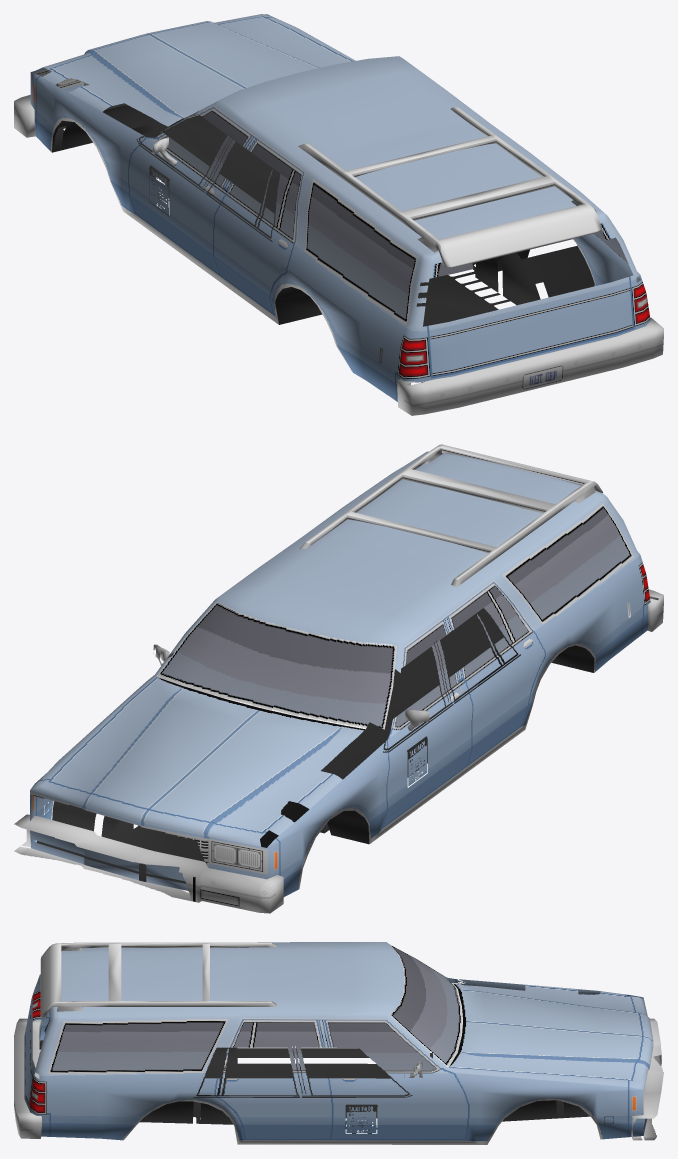
File: 85impalawagon.fbx
3 views of the same model, one above another, from view 1: azimuth 30°, elevation 25°; view 2: azimuth 150°, elevation 25°; view 3: azimuth 270°, elevation 25° (orthographic). The views are drawn at different scales.
Parts seen in each view (by area): view 1: 86capricewagon; view 2: 86capricewagon; view 3: 86capricewagon.
Boxes of the visible parts, box(x1,y1,x2,y2) form: 86capricewagon: box(14, 14, 663, 415); 86capricewagon: box(14, 444, 663, 913); 86capricewagon: box(14, 942, 663, 1144).
Bounding box in the file's own units: 2.11 × 1.13 × 5.37.
